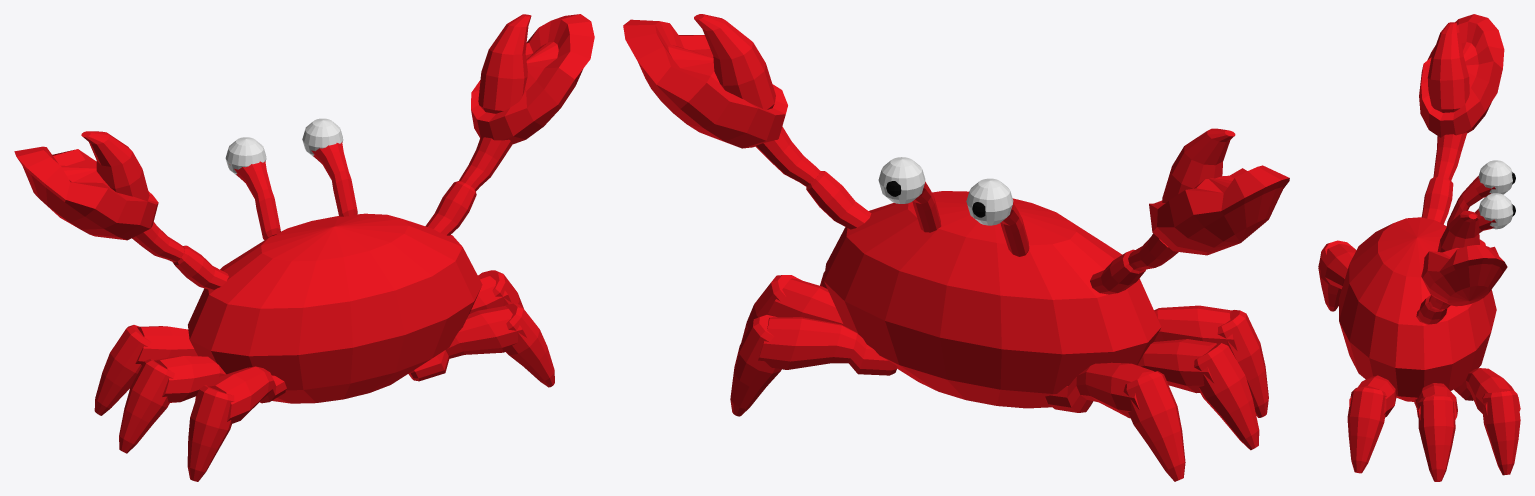
The model's file is Crab.fbx.
The picture shows the model from 3 angles, left to right: view 1: azimuth 30°, elevation 25°; view 2: azimuth 150°, elevation 25°; view 3: azimuth 270°, elevation 25°; orthographic projection. The views are drawn at different scales.
Visible parts, largest first — view 1: Sphere.005; view 2: Sphere.005; view 3: Sphere.005.
Part boxes in pixels (box(x1,y1,x2,y2)): Sphere.005: box(14, 14, 594, 481); Sphere.005: box(623, 14, 1289, 481); Sphere.005: box(1318, 14, 1520, 481).
Size of the model in its own units: 728 by 392 by 254.
